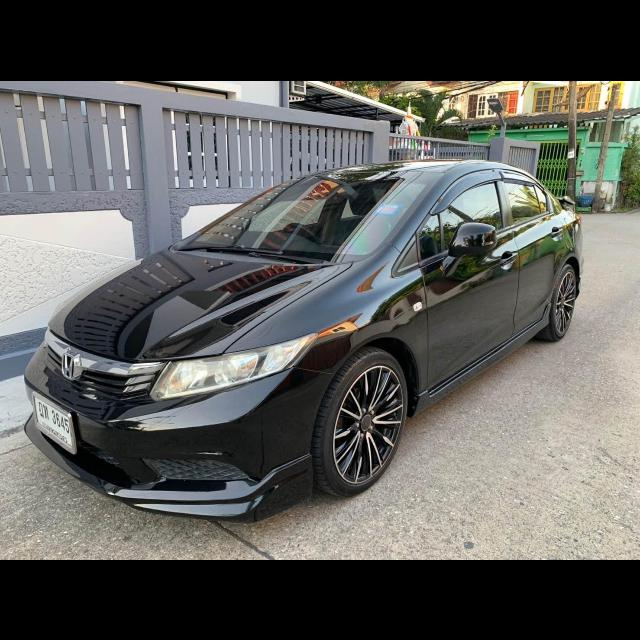cars: (22, 154, 584, 526)
